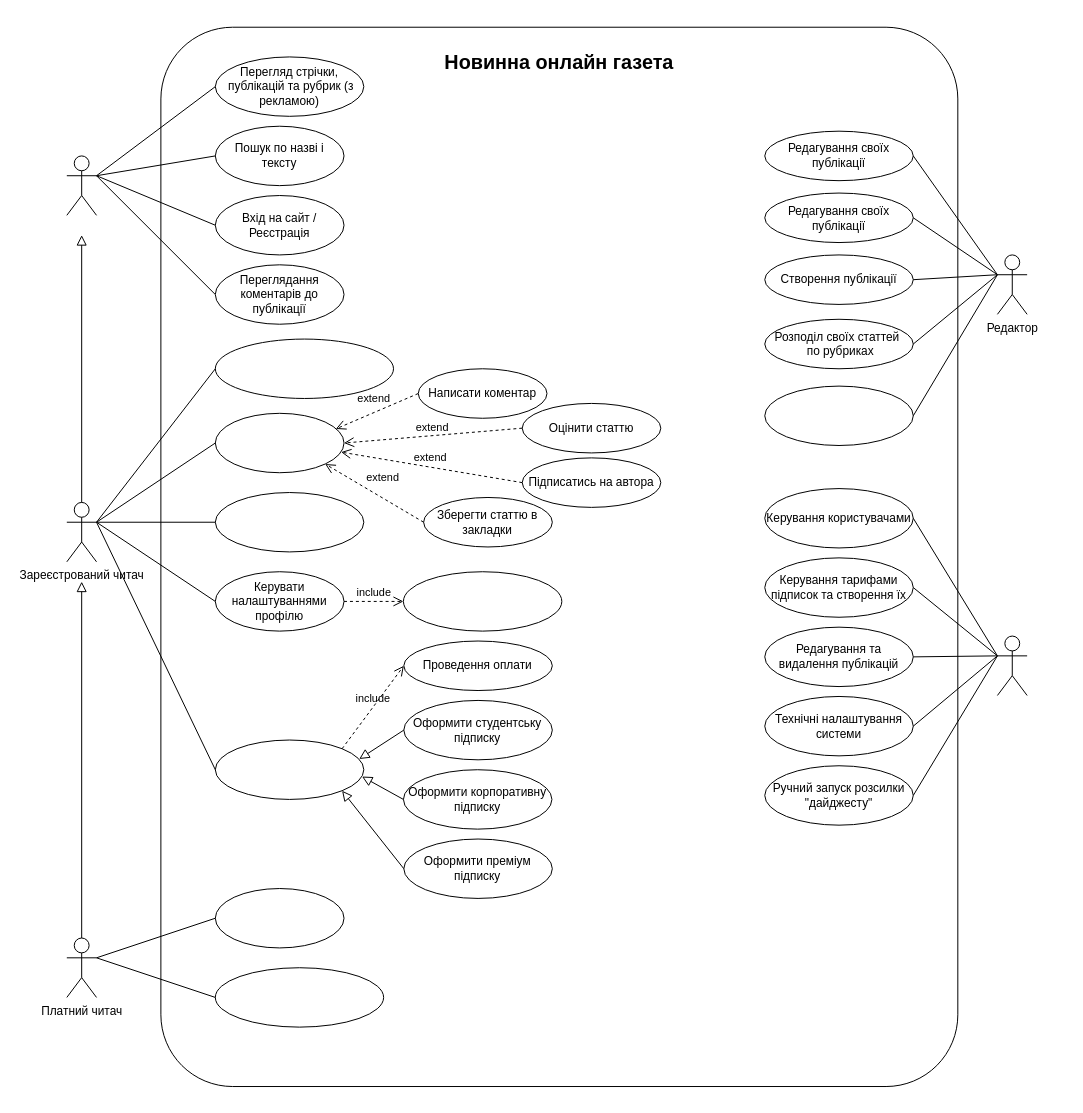
The diagram is 1083 pixels wide and 1113 high, and some of its shapes have lost their labels. Each missing label, with the centre of its shape:
Адміністратор: [1011,665]
Взаємодія з публікацією: [279,442]
Відсутність реклами (окрім студентської підписки): [299,997]
Гість: [81,185]
Ексклюзивні публікації: [279,918]
Надсилання сповіщень для термінових новин: [838,415]
Отримання рекомендацій на основі переглянутих статтей: [304,368]
Оформлення підписки: [289,769]
Переглядання написаних коментарів та оцінок публікацій: [289,522]
Редагування логіну, пошти, ім'я, прізвища: [482,601]
